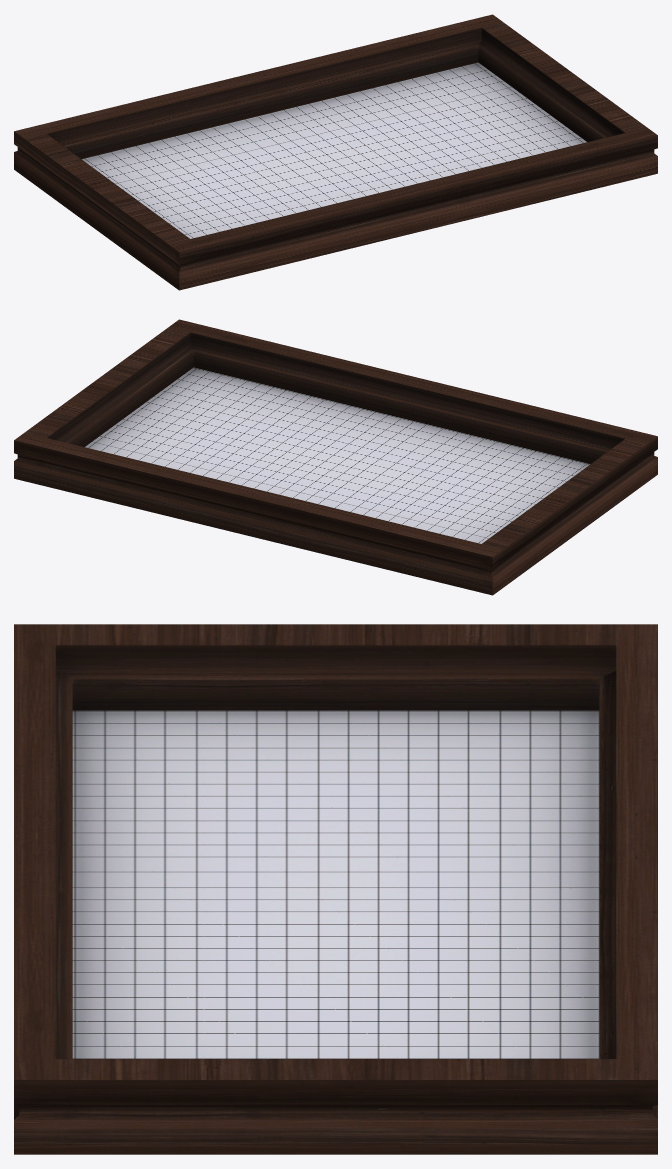
The model's file is Table Custom 2.fbx.
The picture shows the model from 3 angles, top to bottom: view 1: azimuth 30°, elevation 25°; view 2: azimuth 150°, elevation 25°; view 3: azimuth 270°, elevation 25°; orthographic projection. The views are drawn at different scales.
Parts seen in each view (by area): view 1: GreenFelt_Table_Grid; view 2: GreenFelt_Table_Grid; view 3: GreenFelt_Table_Grid.
Part boxes in pixels (<box>): GreenFelt_Table_Grid: <box>14,14,657,290</box>; GreenFelt_Table_Grid: <box>14,319,657,595</box>; GreenFelt_Table_Grid: <box>14,624,657,1154</box>.
Size of the model in its own units: 93.22 by 7.13 by 55.7.
